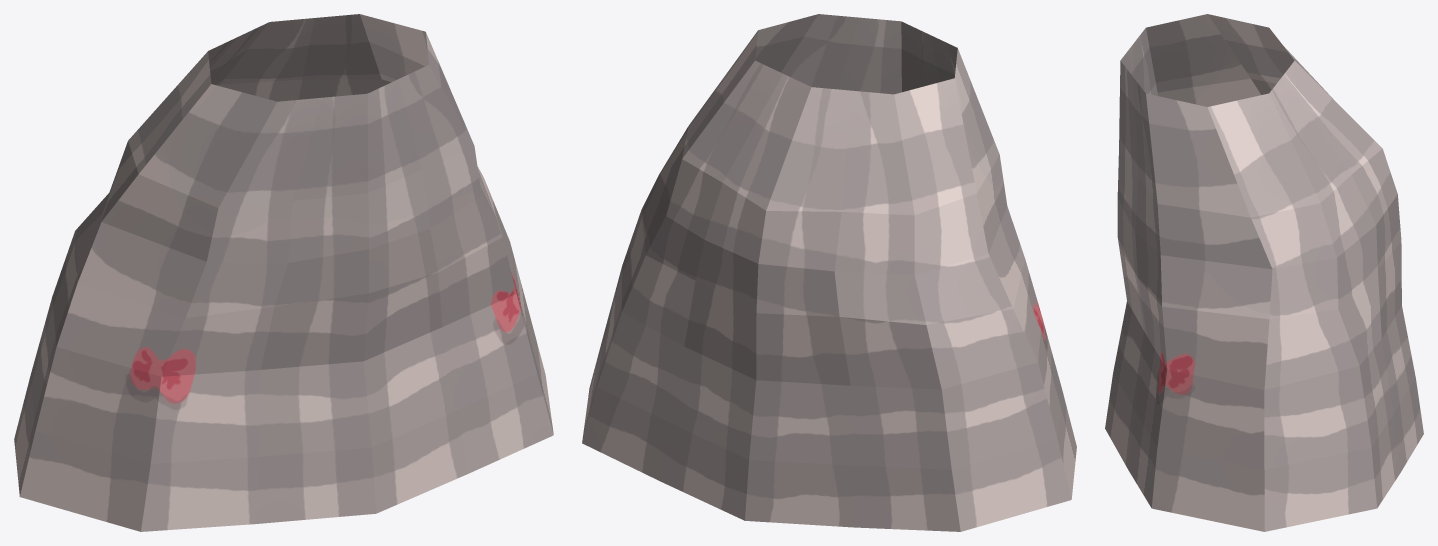
File: skirt1.fbx
3 renders of one model, left to right at view 1: azimuth 30°, elevation 25°; view 2: azimuth 150°, elevation 25°; view 3: azimuth 270°, elevation 25°, orthographic. The views are drawn at different scales.
Parts seen in each view (by area): view 1: Skirt; view 2: Skirt; view 3: Skirt.
Part boxes in pixels (box(x1,y1,x2,y2)): Skirt: box(14, 14, 553, 531); Skirt: box(582, 14, 1076, 531); Skirt: box(1105, 14, 1423, 531).
Bounding box in the file's own units: 115 × 87.8 × 67.97.
